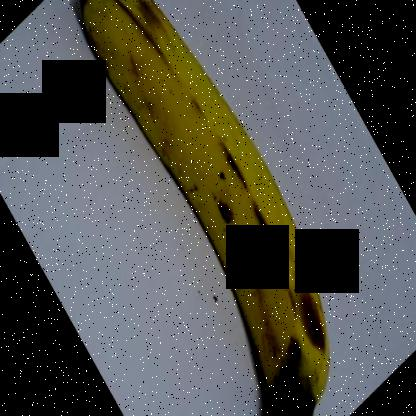ripe: (61, 1, 366, 415)
